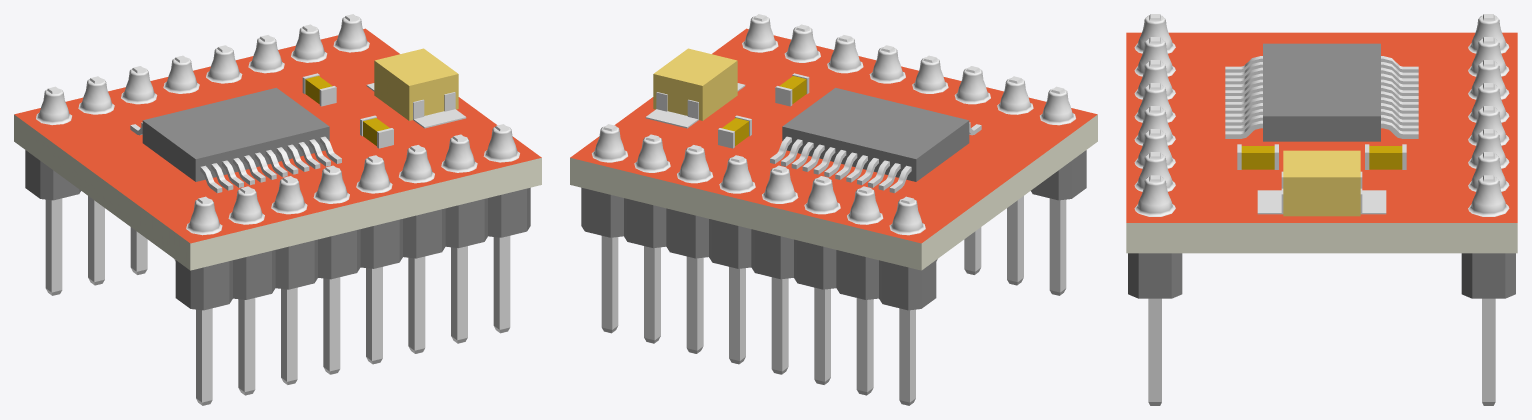
The model's file is tb6612fng.glb.
The picture shows the model from 3 angles, left to right: view 1: azimuth 30°, elevation 25°; view 2: azimuth 150°, elevation 25°; view 3: azimuth 270°, elevation 25°; orthographic projection. The views are drawn at different scales.
Parts seen in each view (by area): view 1: Node1; view 2: Node1; view 3: Node1.
Boxes of the visible parts, x1,y1,x2,y2 form: Node1: (14, 14, 541, 405); Node1: (570, 14, 1097, 405); Node1: (1126, 14, 1517, 405).
Bounding box in the file's own units: 21 × 12.05 × 18.25.
